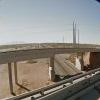Bridge: (4, 33, 97, 76)
